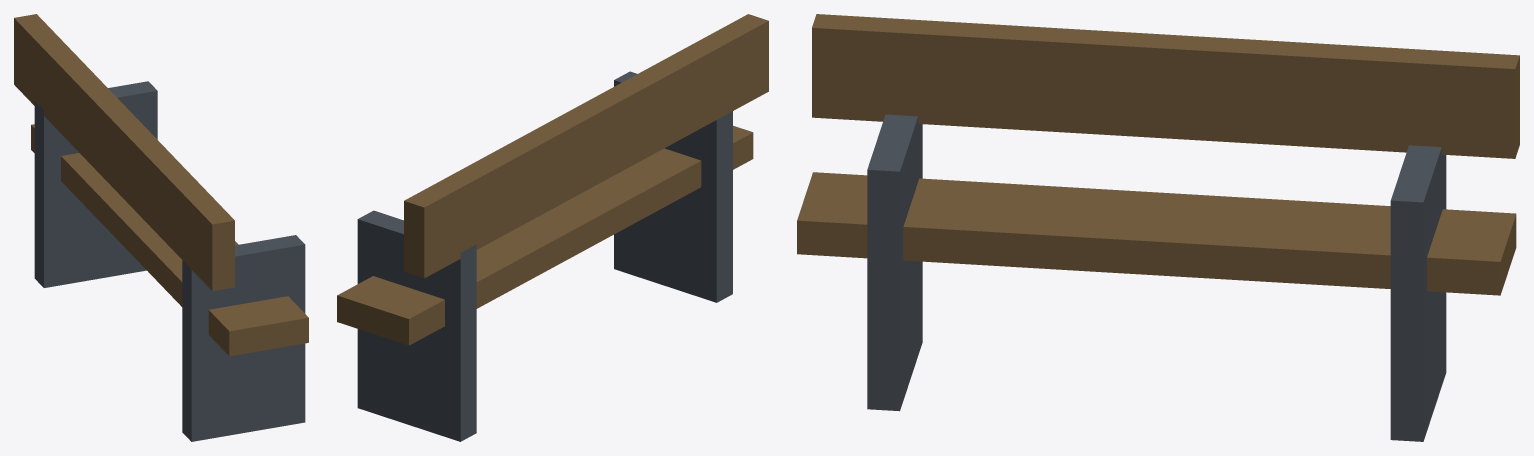
The model's file is cell--360_-90.glb.
3 renders of one model, left to right at view 1: azimuth 30°, elevation 25°; view 2: azimuth 150°, elevation 25°; view 3: azimuth 270°, elevation 25°, orthographic. The views are drawn at different scales.
Parts seen in each view (by area): view 1: cell--360_-90; view 2: cell--360_-90; view 3: cell--360_-90.
Part boxes in pixels (<box>): cell--360_-90: <box>14,14,308,441</box>; cell--360_-90: <box>337,14,768,441</box>; cell--360_-90: <box>797,14,1519,441</box>.
Bounding box in the file's own units: 0.3042 × 0.43 × 0.8752.
